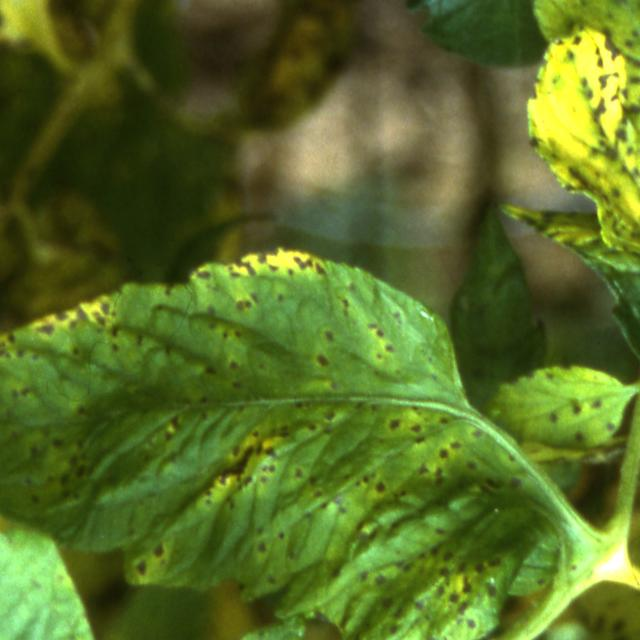Tomato Septoria leaf spot: (0, 215, 640, 640), (511, 0, 640, 382), (44, 598, 348, 640)
